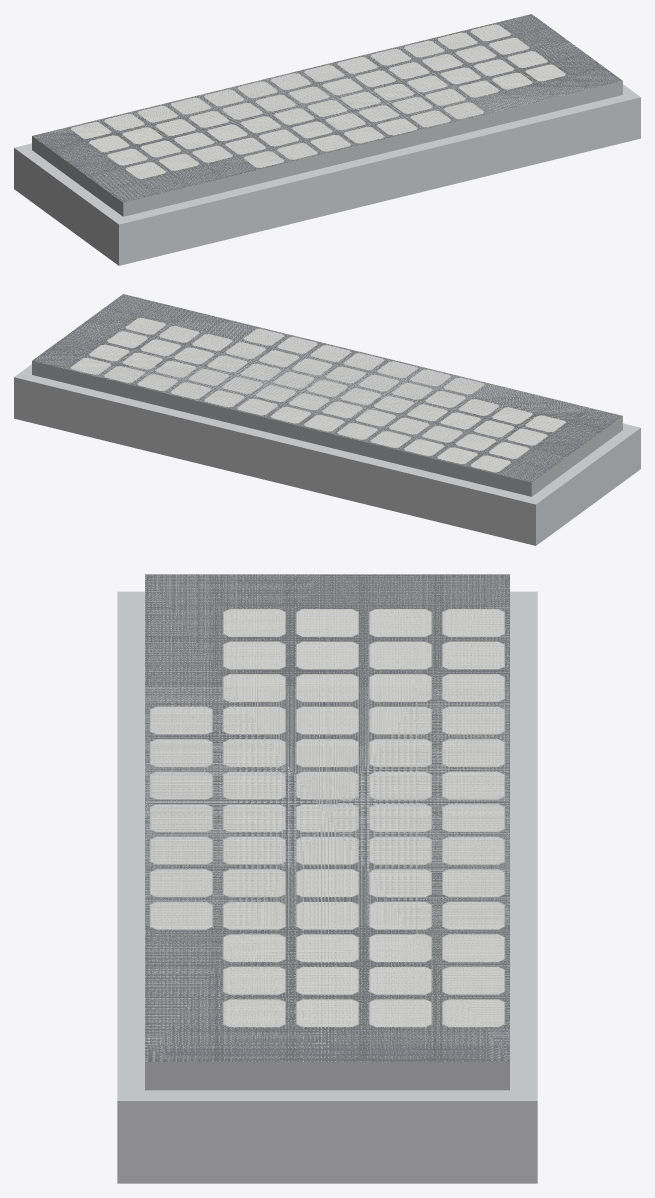
Rendered from 0-mechanical-keyboard.glb.
3 renders of one model, top to bottom at view 1: azimuth 30°, elevation 25°; view 2: azimuth 150°, elevation 25°; view 3: azimuth 270°, elevation 25°, orthographic. The views are drawn at different scales.
Parts seen in each view (by area): view 1: keys, keys-body, case; view 2: keys, keys-body, case; view 3: keys, keys-body, case.
Part boxes in pixels (bbox=[...]): keys: bbox=[32, 14, 622, 202]; keys-body: bbox=[32, 14, 622, 216]; case: bbox=[14, 84, 640, 265]; keys: bbox=[32, 294, 622, 482]; keys-body: bbox=[32, 294, 622, 496]; case: bbox=[14, 364, 640, 545]; keys: bbox=[145, 574, 509, 1061]; keys-body: bbox=[145, 574, 509, 1090]; case: bbox=[117, 591, 537, 1183].
Bounding box in the file's own units: 0.33 × 0.0335 × 0.115.
Materials: 3 (1 with a texture image).
